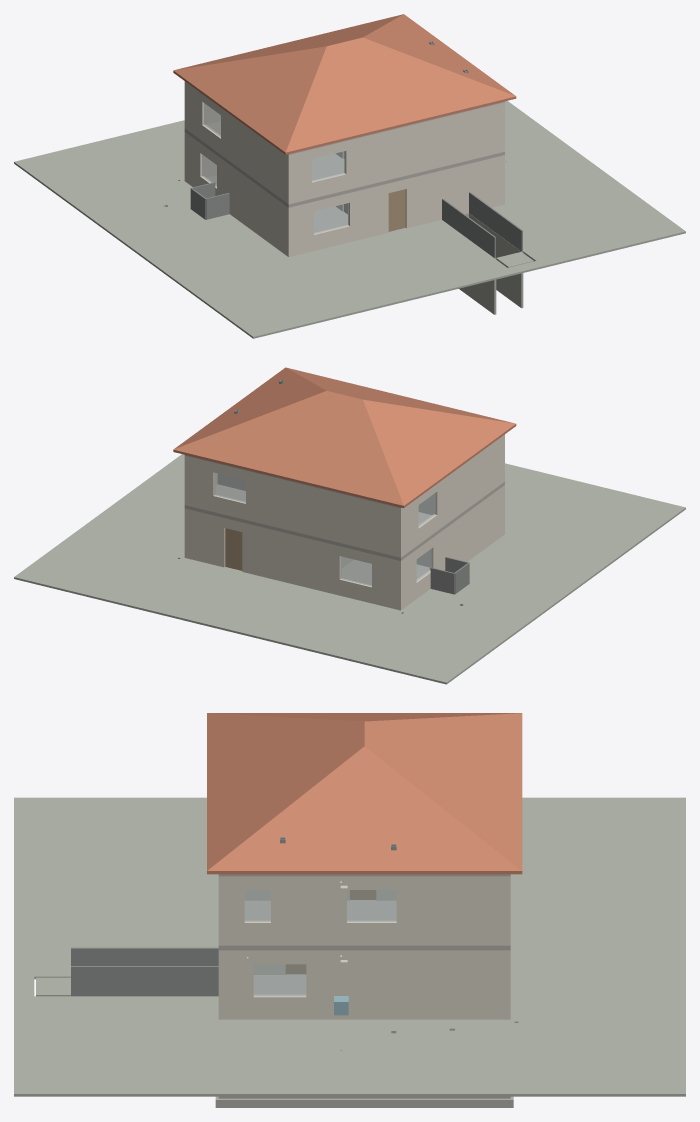
File: Johansson_House_Architecture.glb
3 renders of one model, top to bottom at view 1: azimuth 30°, elevation 25°; view 2: azimuth 150°, elevation 25°; view 3: azimuth 270°, elevation 25°, orthographic. The views are drawn at different scales.
Parts seen in each view (by area): view 1: ROOF-HIPPED, YARD-0-P000, YARD-4, YARD-3-P004, L1-EXT-south-01, G0-EXT-south-04, YARD-0-P001, G0-EXT-west-00, YARD-1, L1-EXT-west-00, YARD-3-P003, G0-EXT-south-01 (+21 smaller); view 2: ROOF-HIPPED, YARD-0-P000, YARD-3-P004, YARD-7, L1-EXT-north-00, G0-EXT-north-01, YARD-8, YARD-0-P001, L1-EXT-west-00, G0-EXT-west-00, YARD-1, YARD-4 (+18 smaller); view 3: ROOF-HIPPED, YARD-3-P004, YARD-4, YARD-0-P000, YARD-7, YARD-3-P003, G0-EXT-east-01-P001, L1-EXT-east-02, YARD-8, YARD-5, L1-EXT-east-01-P000, EXT-GUARD-E (+31 smaller).
Part boxes in pixels (<box>): ROOF-HIPPED: <box>173,14,516,154</box>; YARD-0-P000: <box>14,145,320,338</box>; YARD-4: <box>289,220,514,312</box>; YARD-3-P004: <box>505,101,685,248</box>; L1-EXT-south-01: <box>344,102,504,190</box>; G0-EXT-south-04: <box>405,155,504,228</box>; YARD-0-P001: <box>84,141,337,321</box>; G0-EXT-west-00: <box>217,155,286,255</box>; YARD-1: <box>206,214,361,318</box>; L1-EXT-west-00: <box>221,108,286,202</box>; YARD-3-P003: <box>505,161,622,254</box>; G0-EXT-south-01: <box>348,183,388,242</box>; ROOF-HIPPED: <box>173,367,516,507</box>; YARD-0-P000: <box>379,491,685,684</box>; YARD-3-P004: <box>14,454,184,594</box>; YARD-7: <box>205,578,400,657</box>; L1-EXT-north-00: <box>246,470,402,557</box>; G0-EXT-north-01: <box>242,522,341,595</box>; YARD-8: <box>122,573,246,625</box>; YARD-0-P001: <box>362,487,615,667</box>; L1-EXT-west-00: <box>433,436,502,530</box>; G0-EXT-west-00: <box>429,486,502,570</box>; YARD-1: <box>468,481,601,583</box>; YARD-4: <box>505,463,577,533</box>; ROOF-HIPPED: <box>207,713,522,874</box>; YARD-3-P004: <box>14,1051,685,1096</box>; YARD-4: <box>14,871,218,979</box>; YARD-0-P000: <box>14,797,685,843</box>; YARD-7: <box>510,871,685,962</box>; YARD-3-P003: <box>14,1033,685,1050</box>; G0-EXT-east-01-P001: <box>347,950,504,1019</box>; L1-EXT-east-02: <box>396,876,504,945</box>; YARD-8: <box>569,963,685,1019</box>; YARD-5: <box>14,996,218,1019</box>; L1-EXT-east-01-P000: <box>271,876,340,945</box>; EXT-GUARD-E: <box>71,966,218,996</box>.
Size of the model in its own units: 24 by 11.75 by 23.
